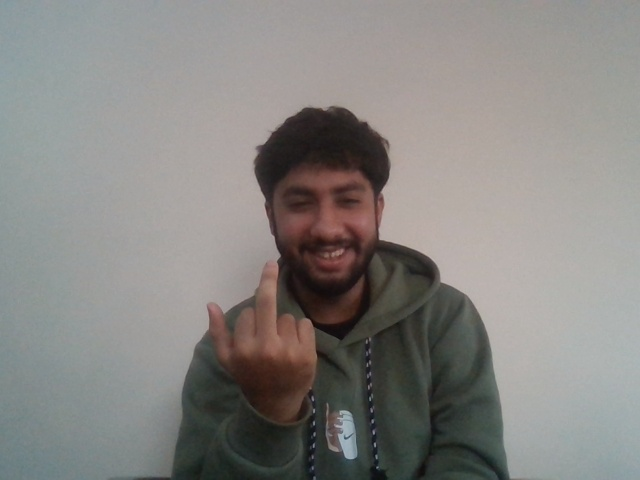Hello: (201, 258, 320, 405)
